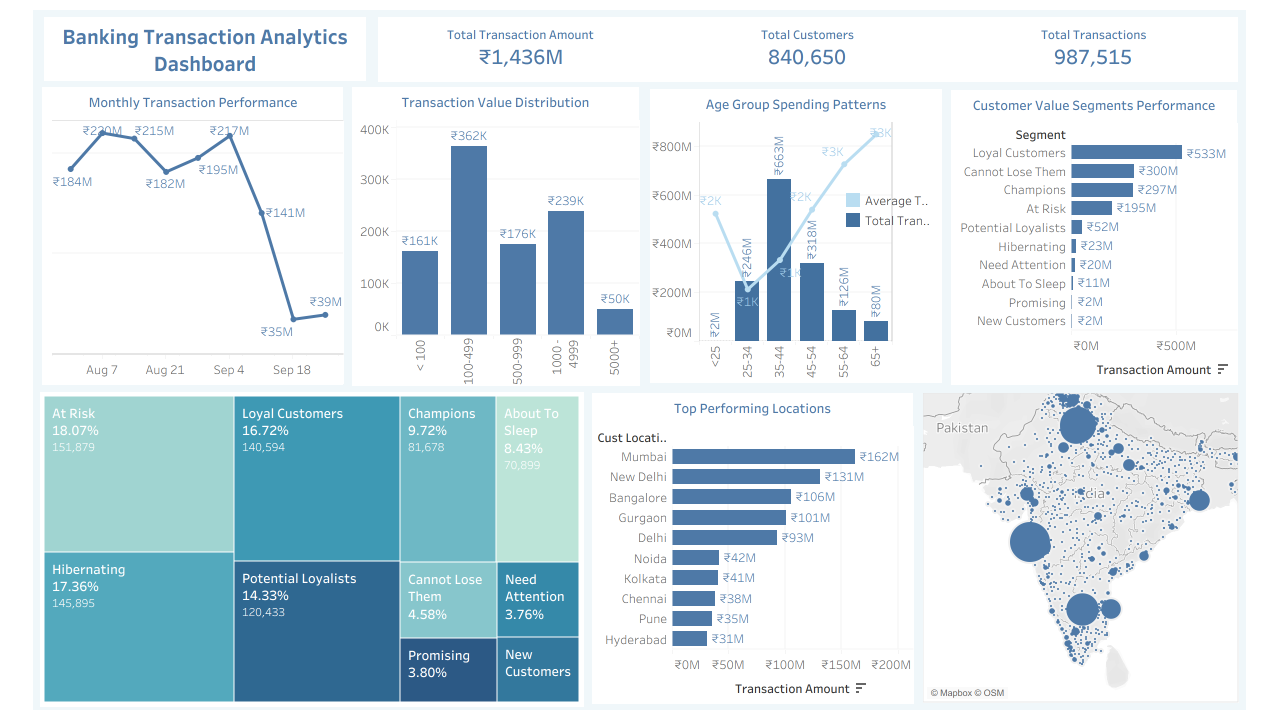

Layout of this report page (visuals, bound fields, positions):
{"tool":"tableau","page":{"name":"Dashboard","canvas":[1000,1000],"units":"permille","ordinal":1},"visuals":[{"type":"text","box":[11.3,14,270.3,103.4]},{"type":"worksheet","title":"KPIs","mark":"Automatic","box":[287.2,20.9,699.9,89.4]},{"type":"worksheet","title":"Transaction Trend (Aug-Sep)","mark":"Line","rows":["TransactionAmount_INR"],"cols":["TransactionDate","TransactionDate"],"box":[13.7,118.7,245.4,416.2]},{"type":"worksheet","title":"Transaction bins","mark":"Automatic","rows":["TransactionID"],"cols":["Calculation_1446218497765687296"],"box":[266.3,118.7,233.3,417.6]},{"type":"worksheet","title":"Transaction Amount by Age Group","mark":"Automatic","rows":["TransactionAmount_INR","TransactionAmount_INR"],"cols":["CustomerAgeGroup"],"box":[508.5,121.5,237.6,410.6]},{"type":"worksheet","title":"RFM Segmentation","mark":"Automatic","rows":["segment"],"cols":["TransactionAmount_INR"],"box":[753.8,122.9,232.5,412]},{"type":"legend","title":"Transaction Amount by Age Group","param":"[federated.1wrkxtw1rhtt8c192jpff17xoa2n].[:Measure Names]","box":[665.5,262.6,73.5,60.1]},{"type":"worksheet","title":"Segment Distribution","mark":"Automatic","box":[12.2,544.7,441.8,438.6]},{"type":"worksheet","title":"Top Location","mark":"Automatic","rows":["CustLocation"],"cols":["TransactionAmount_INR"],"box":[461,546.1,261.5,434.4]},{"type":"worksheet","title":"Location map","mark":"Automatic","box":[730.5,546.1,257.4,433]}]}

Visuals, with their boxes on the dashboard's canvas, which has no fixed pixel size, in thousandths of its width and height (x1, y1, x2, y2). These are canvas units, not pixel positions in the 1280x720 screenshot, which may show the page scaled, cropped or inside an application window:
text: 11,14,282,117
"KPIs" worksheet: 287,21,987,110
"Transaction Trend (Aug-Sep)" worksheet (Line marks): 14,119,259,535
"Transaction bins" worksheet: 266,119,500,536
"Transaction Amount by Age Group" worksheet: 508,122,746,532
"RFM Segmentation" worksheet: 754,123,986,535
"Transaction Amount by Age Group" legend: 666,263,739,323
"Segment Distribution" worksheet: 12,545,454,983
"Top Location" worksheet: 461,546,722,980
"Location map" worksheet: 730,546,988,979
